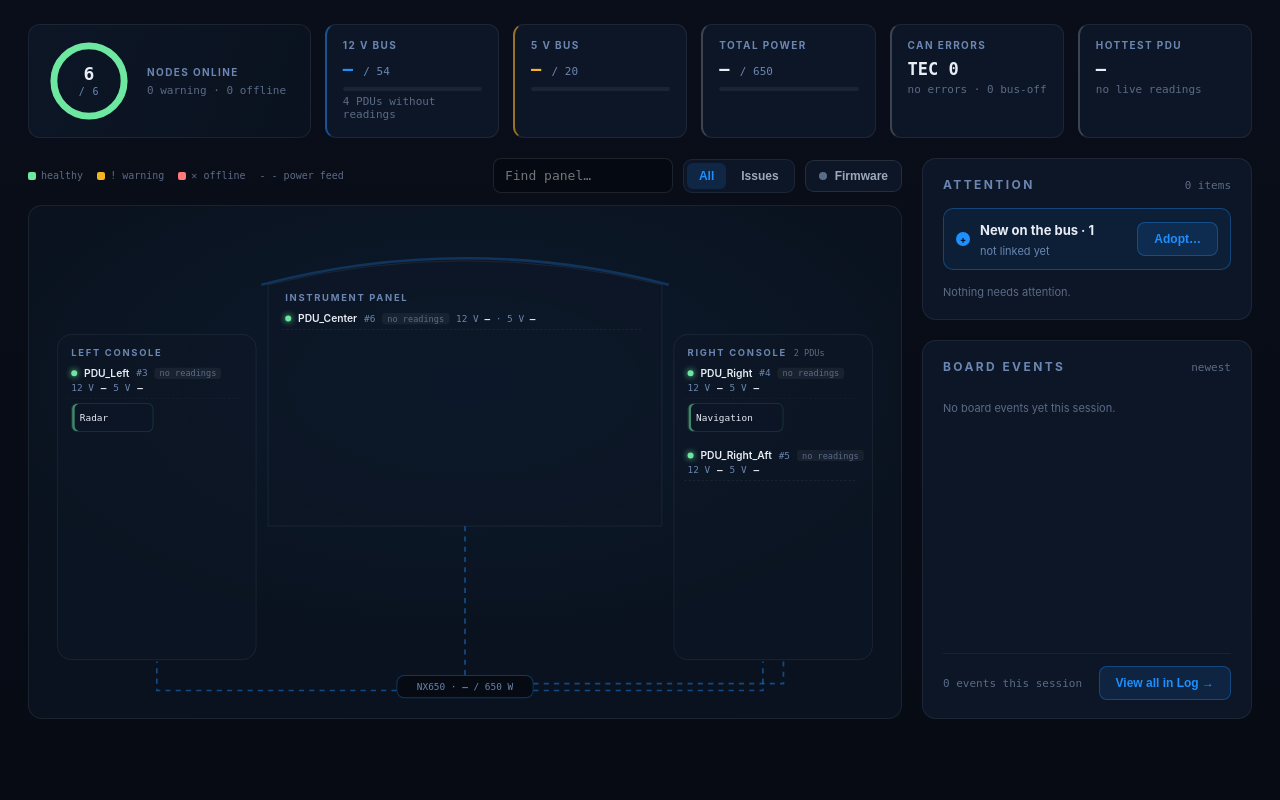
it: T16 Board panel Settings tab (B72, X2) › an empty name: main refuses it, the error shows inline and the panel stays open
Click the button titled "#2 Right_Navigation" at (736, 417), box [688,403,784,432]
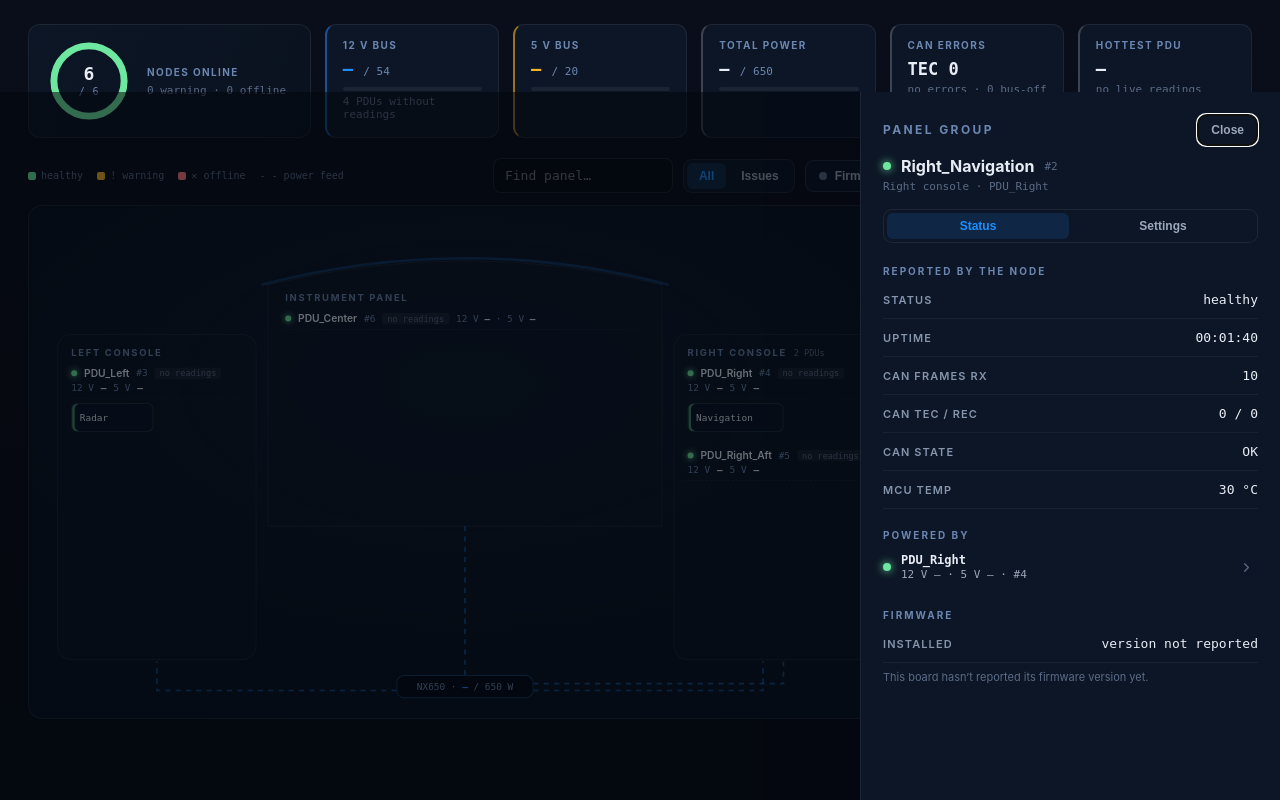
Click the tab "Settings" at (1163, 226), box [1072,213,1254,239]
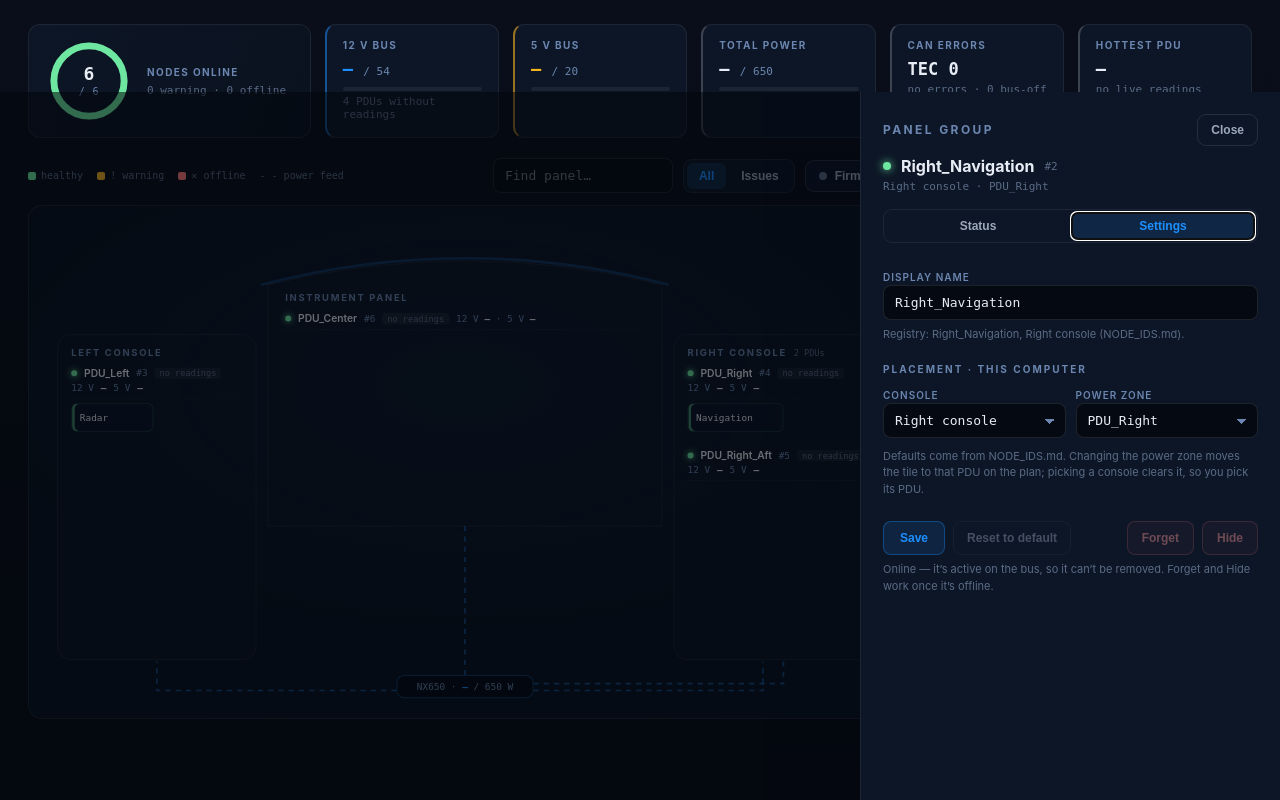
Clear the field labelled "Display name" at (1070, 302), box [883,285,1258,320]
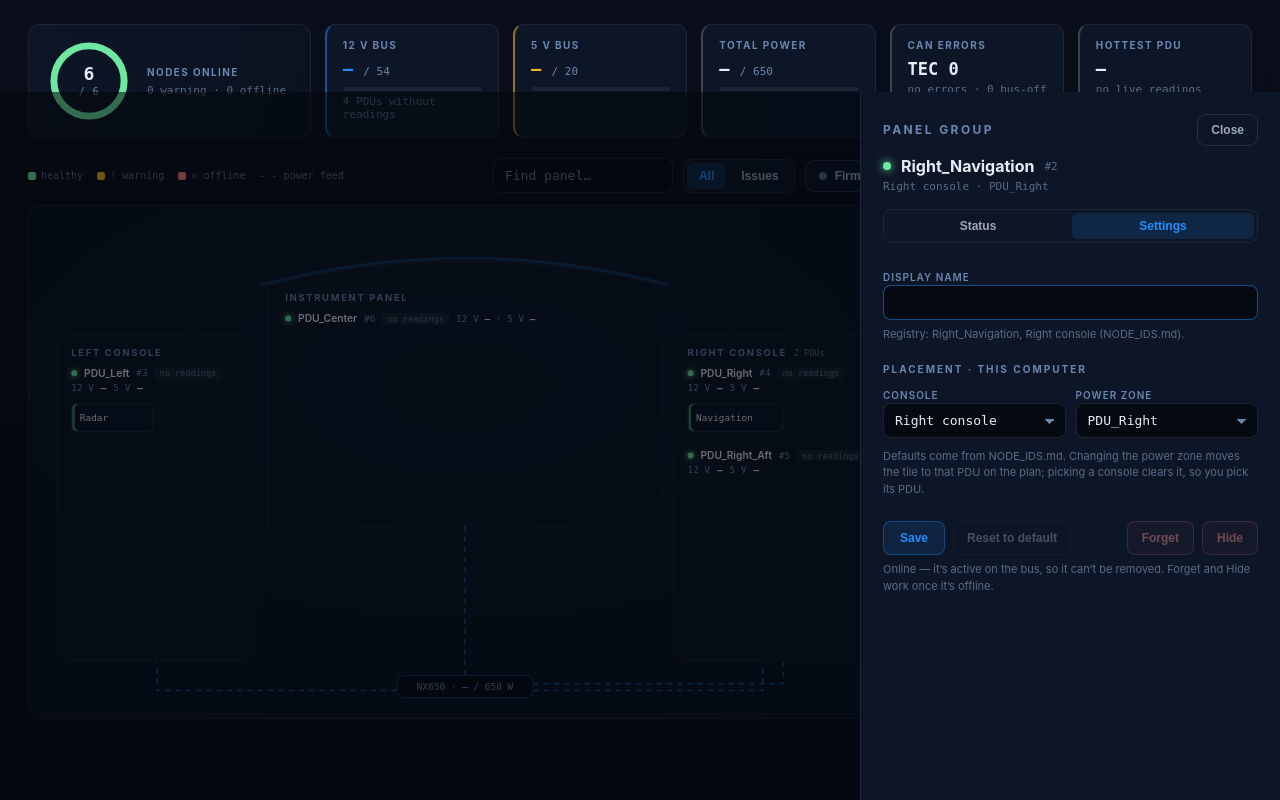
Click the button "Save" at (914, 538), box [883,521,945,555]
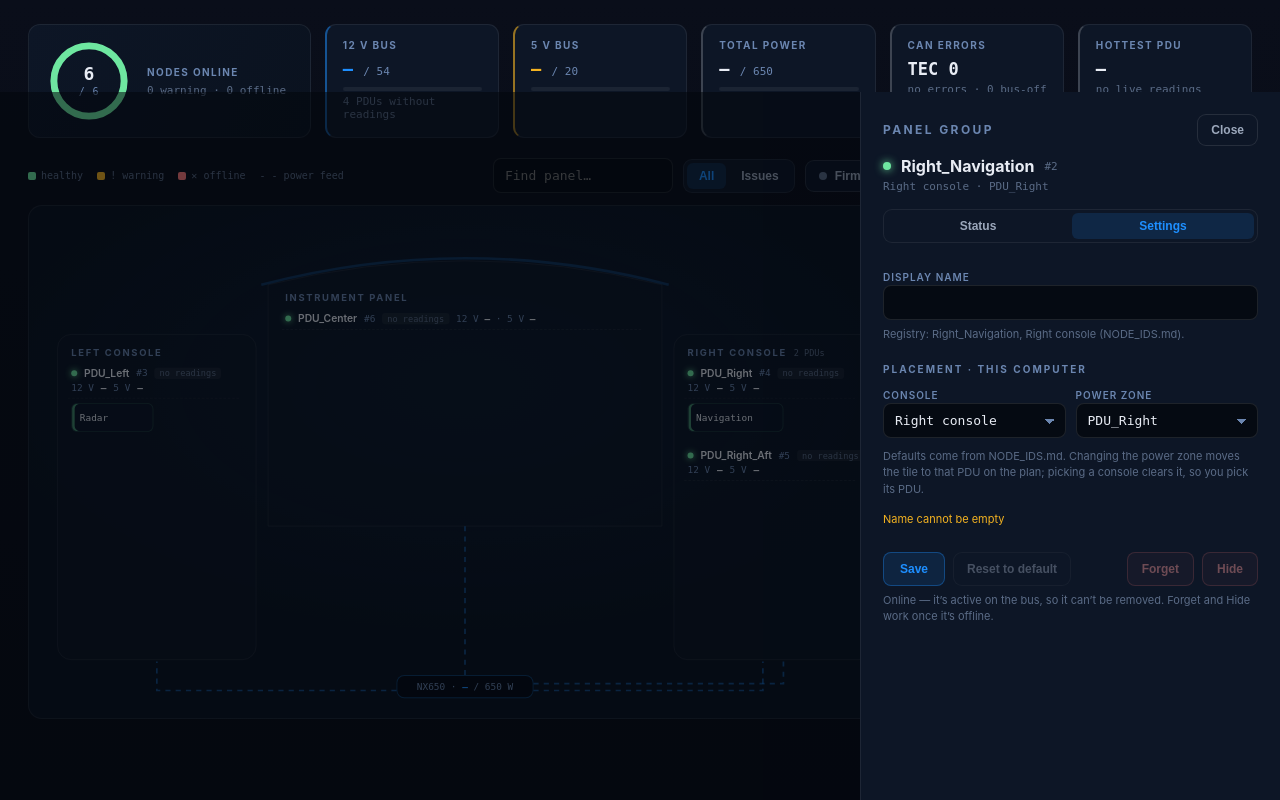
Now the dialog named "Panel group Right_Navigation" is shown, box [860,92,1279,799]
Now the text "Name cannot be empty" is shown, box [883,512,1004,526]
